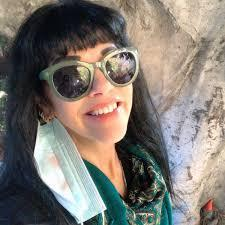Wore Mask Incorrectly: (0, 1, 187, 225)
